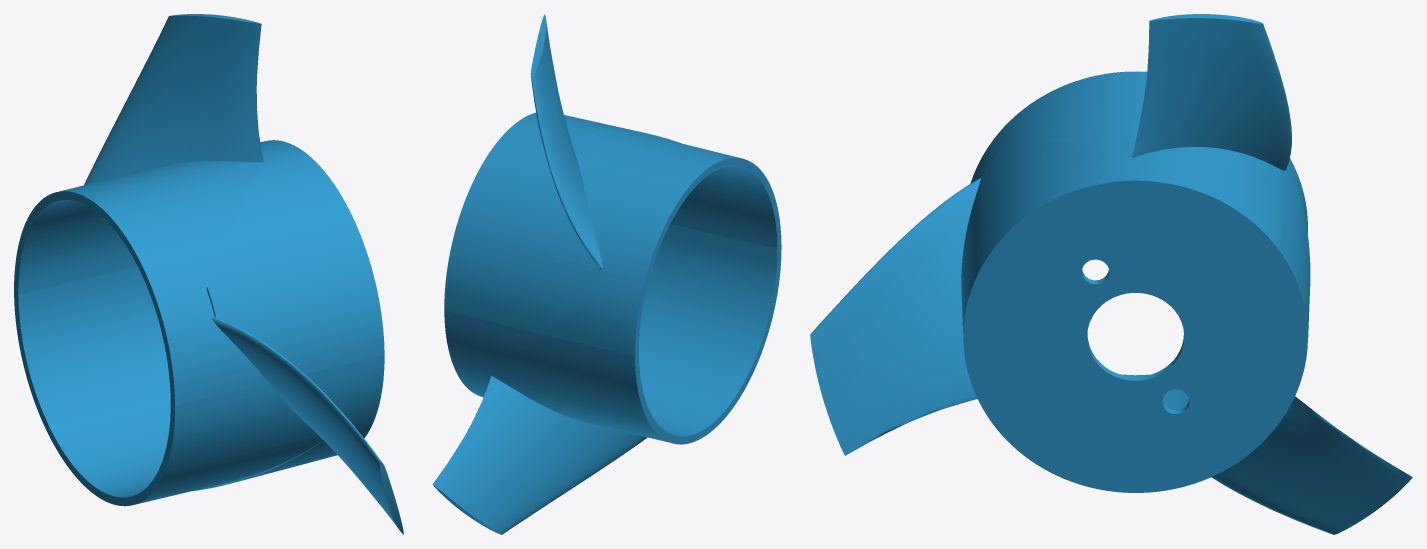
Rendered from propccw.obj.
3 renders of one model, left to right at view 1: azimuth 30°, elevation 25°; view 2: azimuth 150°, elevation 25°; view 3: azimuth 270°, elevation 25°, orthographic. The views are drawn at different scales.
Visible parts, largest first — view 1: PropCCW_ID1330; view 2: PropCCW_ID1330; view 3: PropCCW_ID1330.
Part boxes in pixels (box(x1,y1,x2,y2)): PropCCW_ID1330: box(14, 14, 403, 534); PropCCW_ID1330: box(432, 14, 781, 534); PropCCW_ID1330: box(810, 14, 1412, 534).
Size of the model in its own units: 0.03 by 0.0685 by 0.07.
